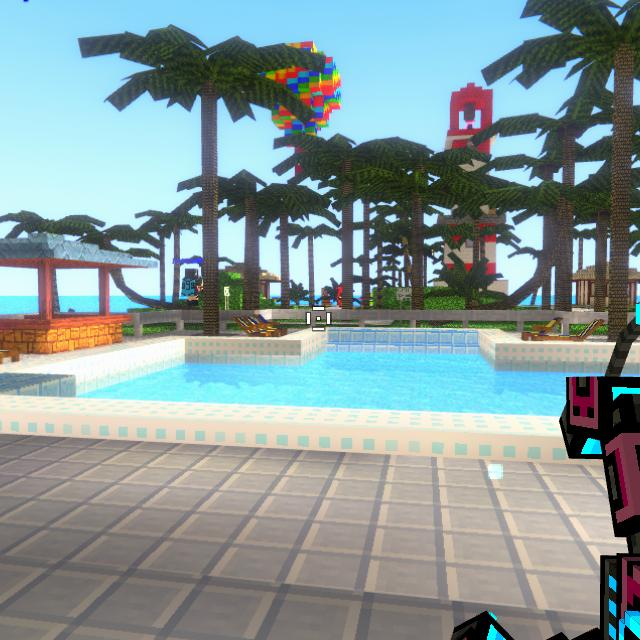Enemy: (322, 290, 331, 306), (338, 290, 343, 307)
